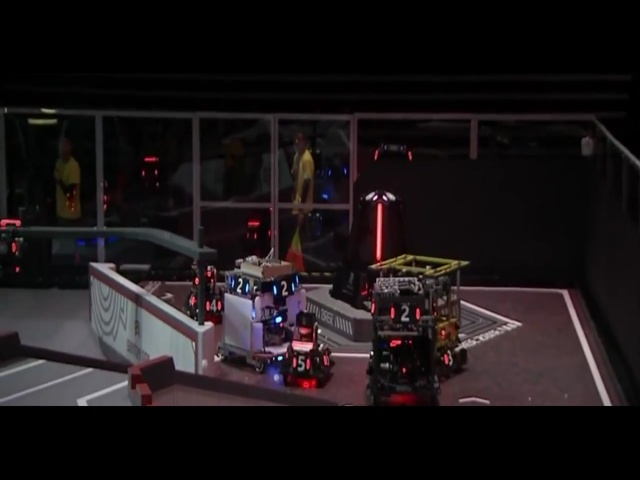plate: (373, 299, 417, 327), (236, 196, 270, 217), (328, 284, 345, 317), (300, 160, 321, 178), (200, 184, 213, 211), (109, 225, 123, 248), (268, 326, 278, 357), (266, 98, 282, 115), (239, 98, 254, 113)
